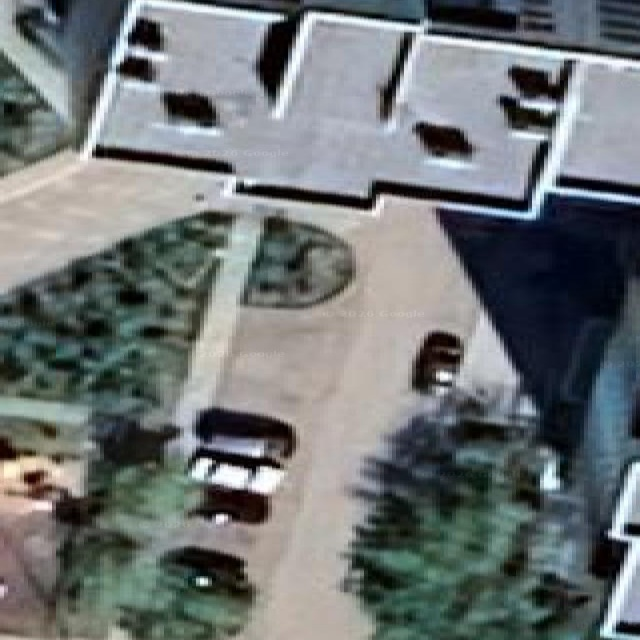car: (195, 407, 295, 459), (187, 447, 283, 495), (163, 546, 252, 595), (13, 0, 68, 63), (2, 455, 64, 506), (412, 332, 462, 392), (190, 487, 267, 524), (497, 96, 556, 135), (412, 121, 472, 158), (162, 91, 216, 127), (507, 64, 552, 98), (128, 16, 163, 51), (118, 55, 154, 81)
